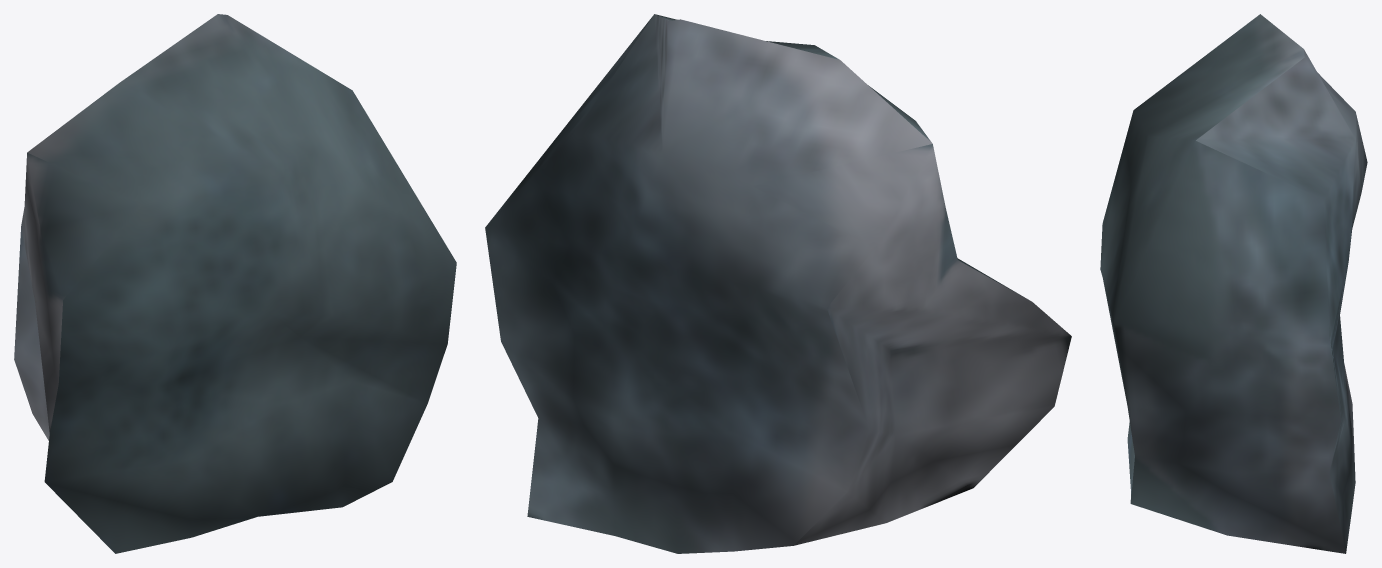
File: GrafitaPedra.fbx
The picture shows the model from 3 angles, left to right: view 1: azimuth 30°, elevation 25°; view 2: azimuth 150°, elevation 25°; view 3: azimuth 270°, elevation 25°; orthographic projection. The views are drawn at different scales.
Visible parts, largest first — view 1: MinerioGrafitaPelado; view 2: MinerioGrafitaPelado; view 3: MinerioGrafitaPelado.
Part boxes in pixels (<box>): MinerioGrafitaPelado: <box>14,14,456,553</box>; MinerioGrafitaPelado: <box>485,14,1071,553</box>; MinerioGrafitaPelado: <box>1100,14,1367,553</box>.
Bounding box in the file's own units: 578 × 601 × 324.
